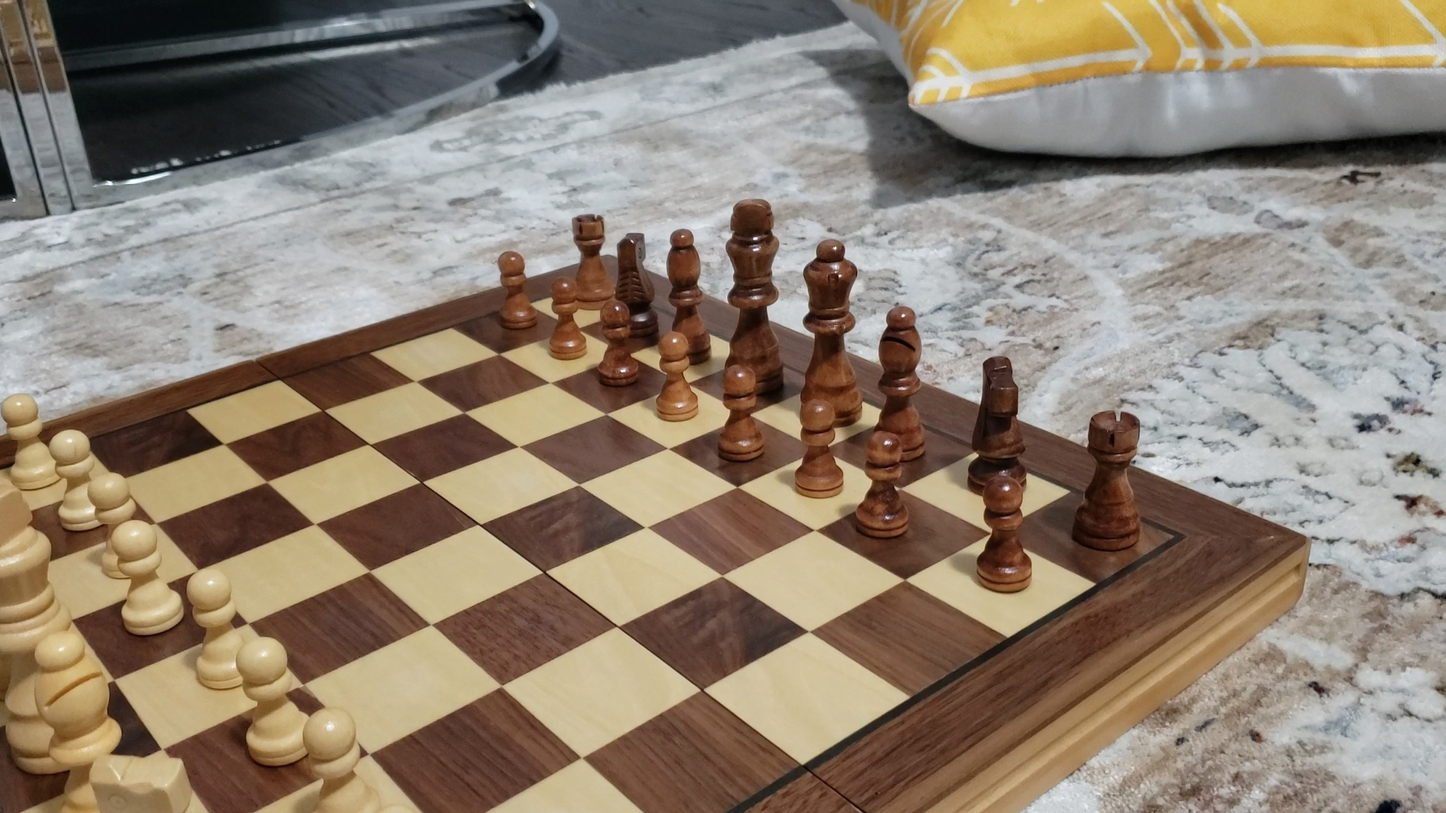black-bishop: (874, 301, 926, 461), (664, 226, 711, 362)
black-king: (721, 193, 785, 399)
black-knight: (968, 353, 1025, 489), (612, 229, 654, 341)
black-pawn: (976, 468, 1030, 591), (854, 429, 910, 540), (795, 397, 843, 497), (716, 361, 763, 463), (655, 329, 699, 423), (595, 298, 639, 388), (494, 248, 536, 331), (547, 276, 587, 362)
black-queen: (797, 235, 863, 427)
black-rook: (1072, 409, 1144, 552), (567, 211, 613, 307)
white-bishop: (24, 627, 125, 781)
white-pawn: (232, 633, 312, 771), (103, 518, 189, 639), (298, 705, 384, 812), (183, 566, 250, 693), (45, 426, 107, 534), (1, 390, 63, 495)
